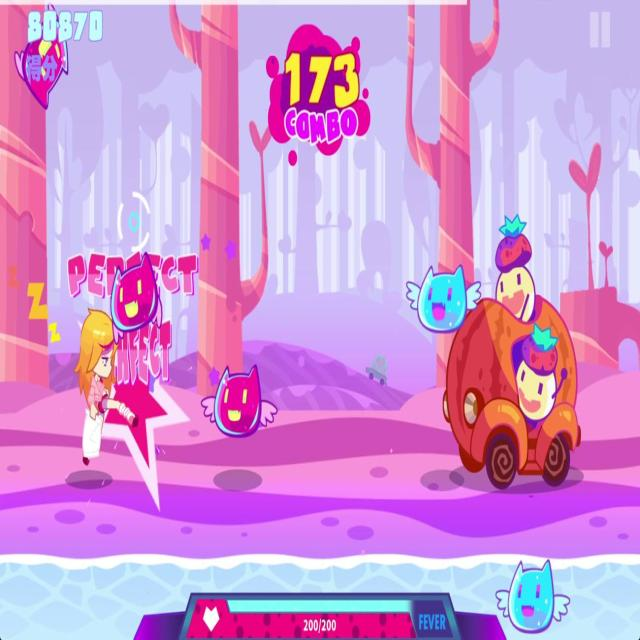cheboss: (441, 206, 584, 497)
mao: (197, 352, 280, 443), (491, 552, 573, 636), (13, 3, 73, 115), (404, 259, 482, 336), (107, 245, 165, 346)
